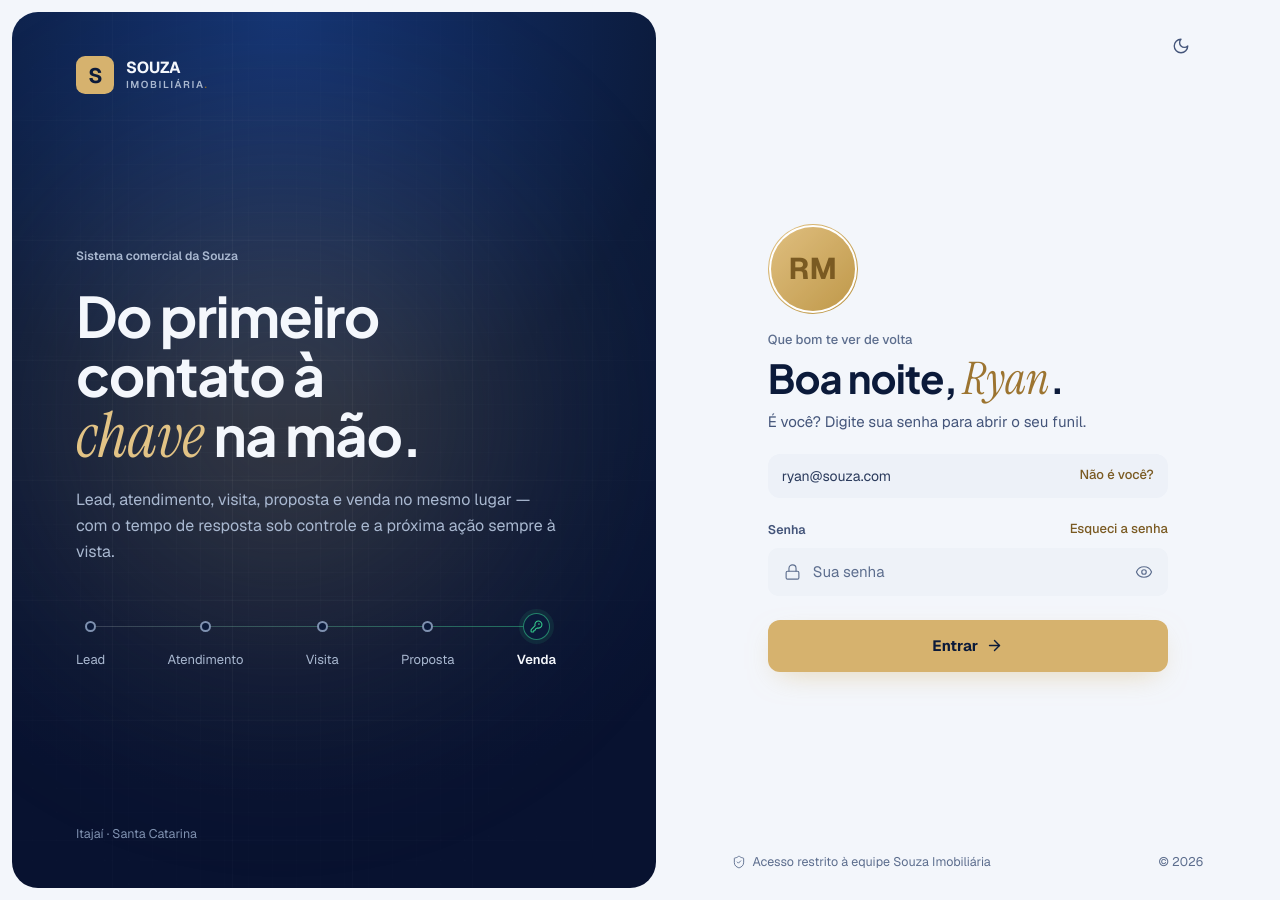
it: entrada · quem volta › "Não é você?" esquece a conta e limpa o e-mail
The image size is (1280, 900).
Click the button "Não é você?" at (1117, 476), box [1076,464,1158,488]
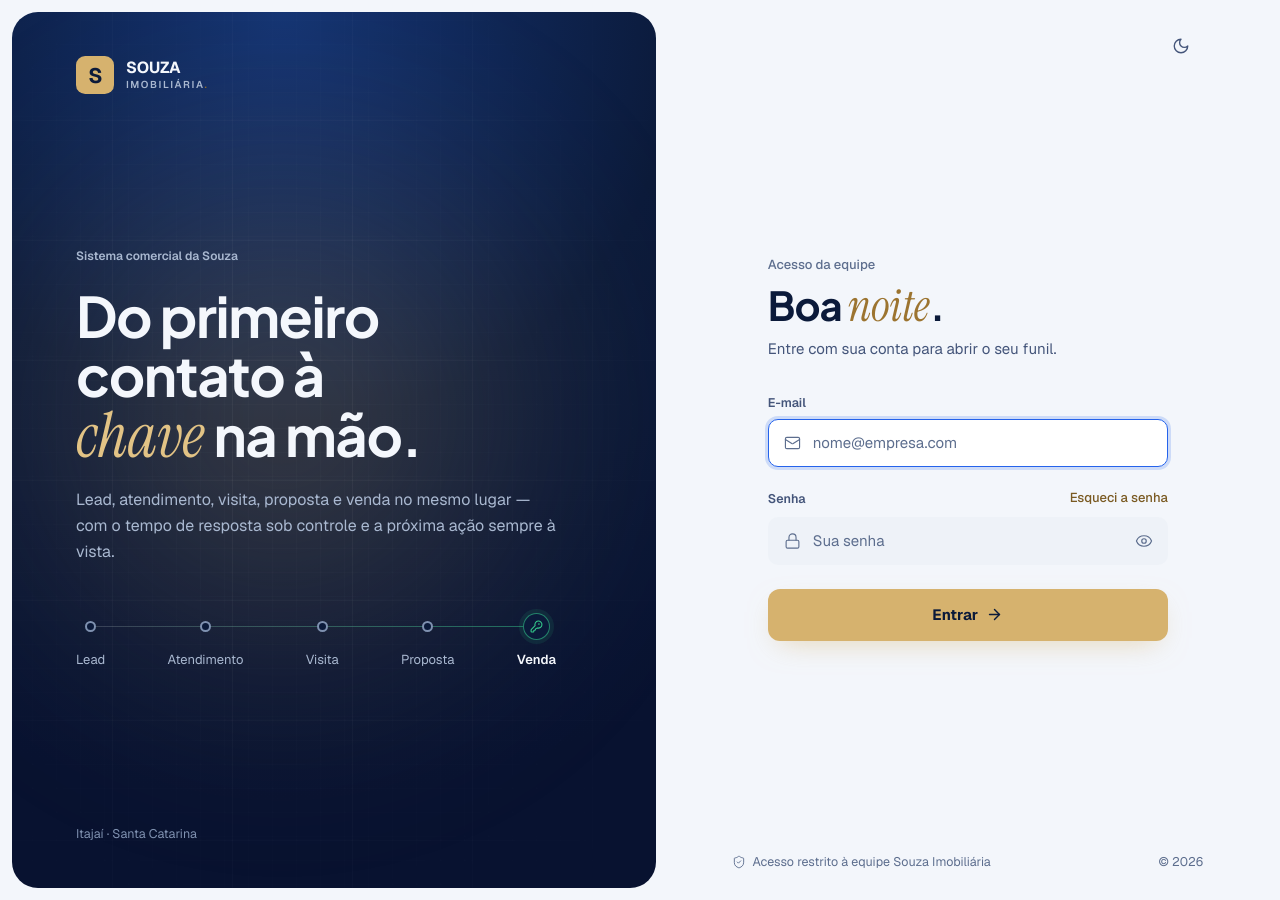
expect the text "Entre com sua conta para abrir o seu funil." is shown: met, box [768,339,1056,358]
expect the field labelled "E-mail" is empty: met, box [768,419,1168,467]
